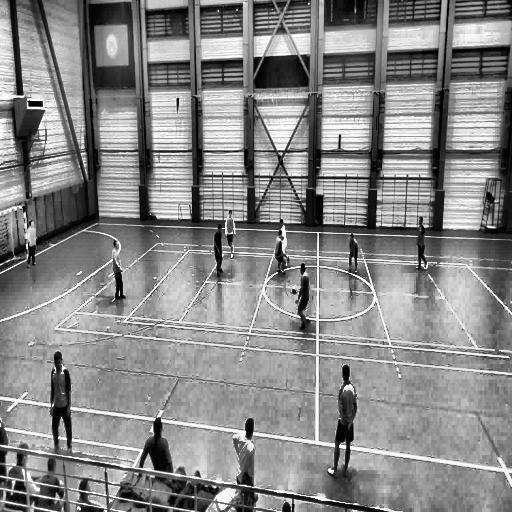ball: (292, 285, 296, 293)
player: (327, 365, 355, 478), (50, 352, 73, 452), (233, 418, 257, 510), (295, 261, 309, 333), (112, 238, 126, 302), (277, 217, 290, 266), (416, 218, 427, 272), (274, 230, 286, 276), (224, 210, 235, 260), (214, 223, 224, 277), (26, 219, 37, 267), (348, 234, 358, 274)
